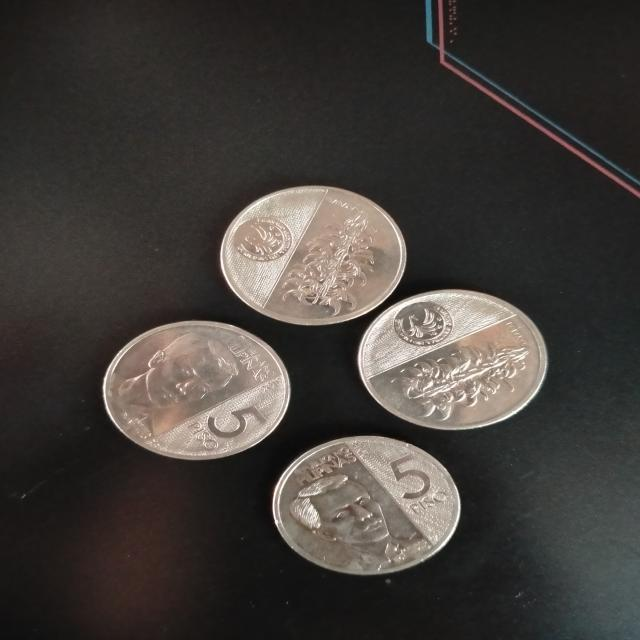5_New_Back: (273, 199, 388, 322), (391, 335, 537, 422)
5_New_Front: (188, 389, 275, 455), (384, 448, 460, 514)
